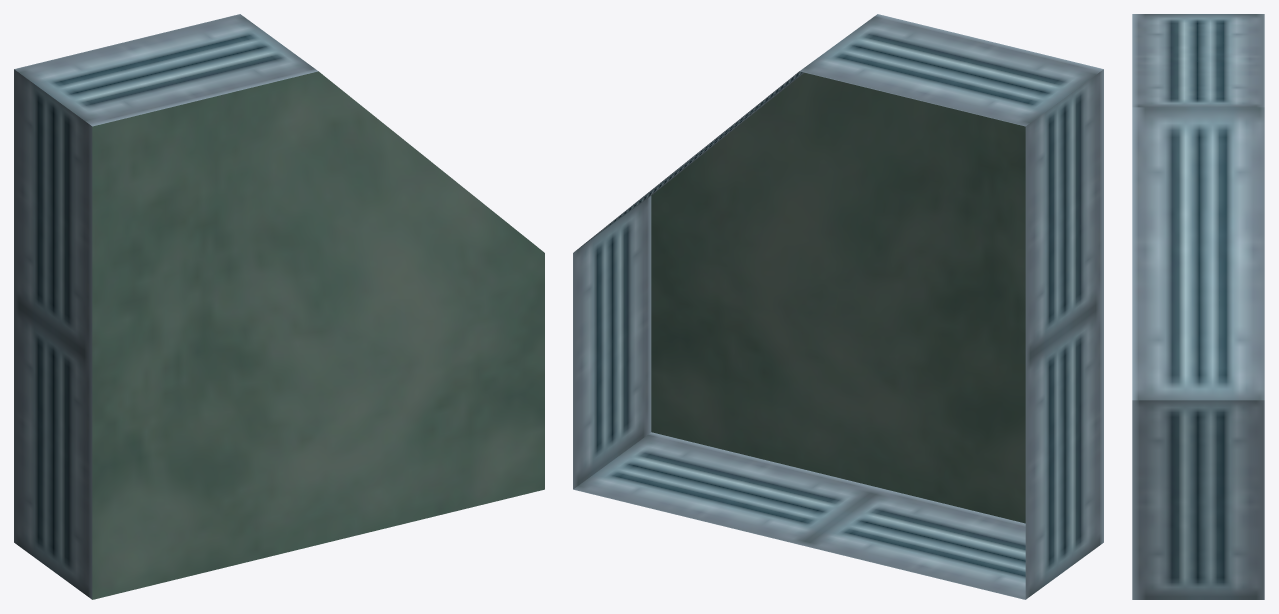
Rendered from ss_tile_sw_boundary_corner.fbx.
3 views of the same model, side by side, from view 1: azimuth 30°, elevation 25°; view 2: azimuth 150°, elevation 25°; view 3: azimuth 270°, elevation 25° (orthographic). The views are drawn at different scales.
Size of the model in its own units: 1 by 1 by 0.3.
